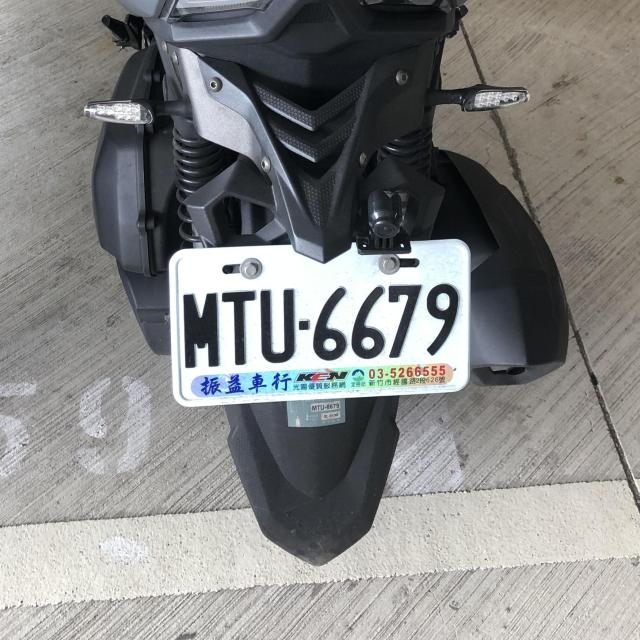W: (160, 233, 474, 410)
